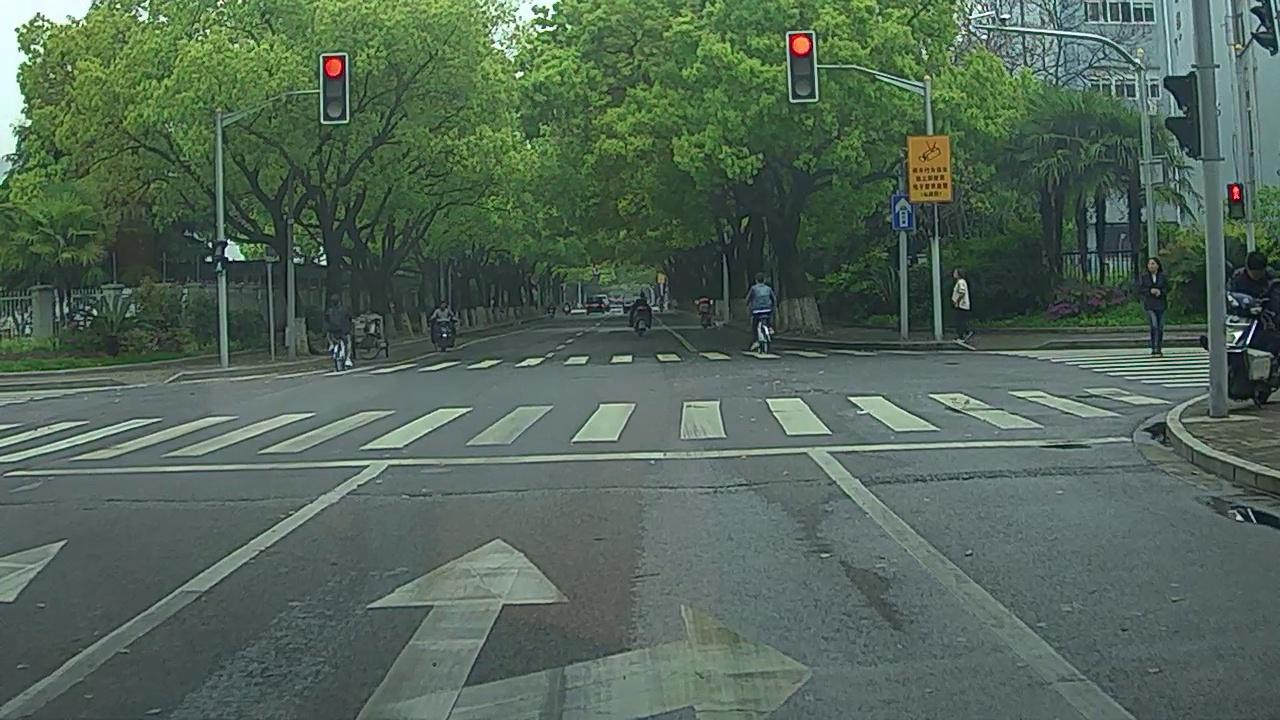traffic_light: (789, 34, 817, 100), (323, 56, 346, 120)
